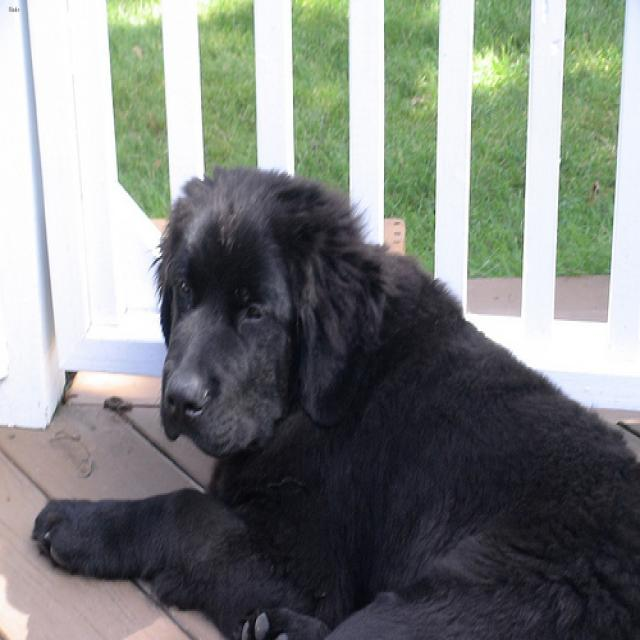dog-newfoundland: (23, 159, 637, 637)
